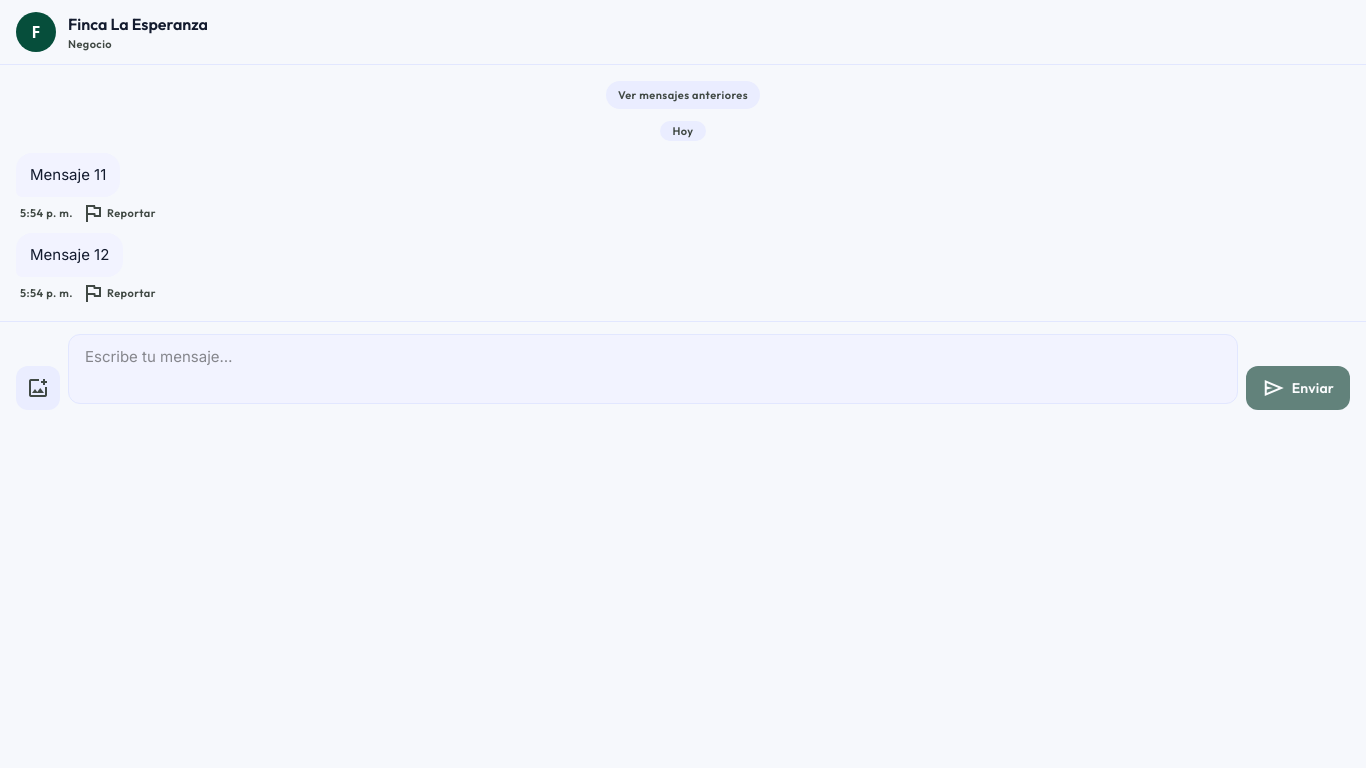
Test case: HiloConversacion › los mensajes anteriores se piden bajo demanda y se muestran antes de los actuales, sin repetirse
Expected: the text "Mensaje 11" is shown, [30,163,106,187]
Click the button "Ver mensajes anteriores": (683, 95) [606,81,760,109]
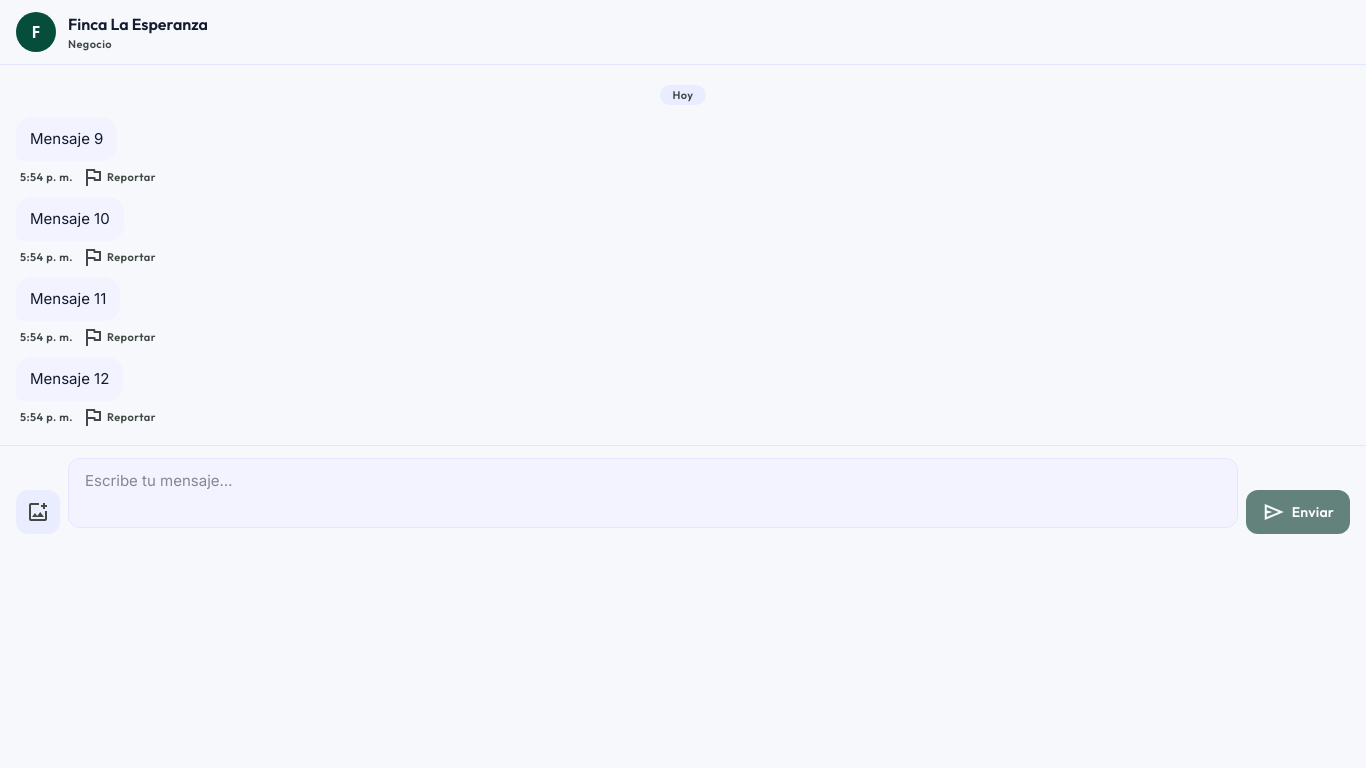
Expected: the text "Mensaje 9" is shown, [30,127,103,151]
Expected: the button "Ver mensajes anteriores" is gone
